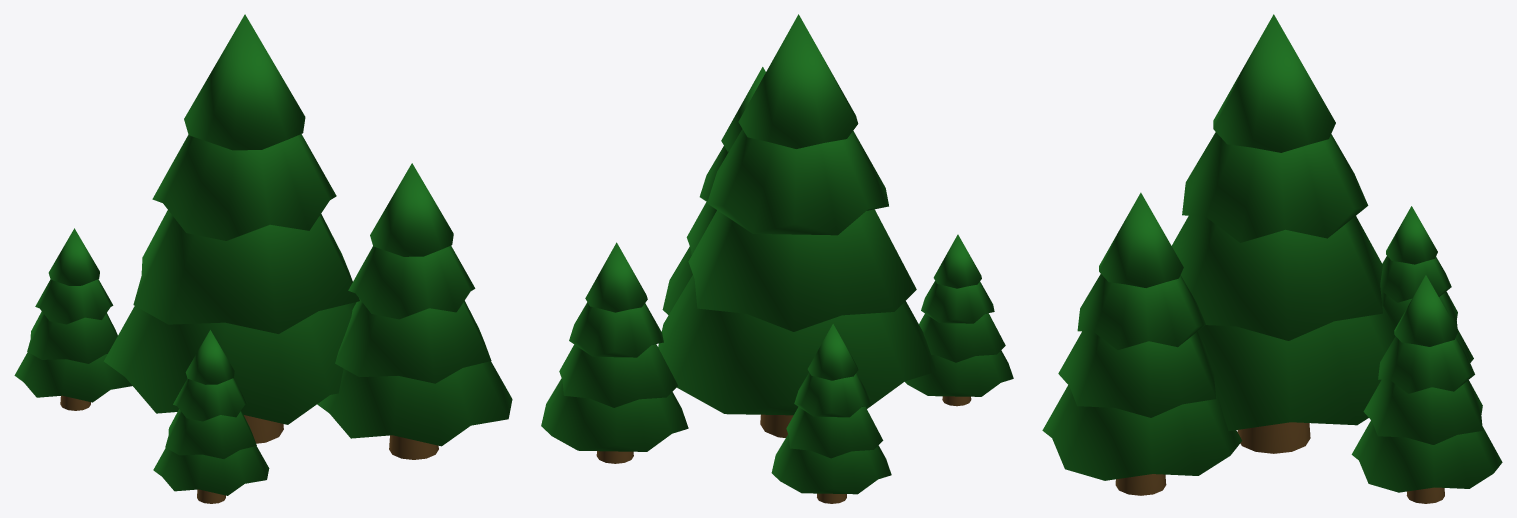
File: tree.fbx
3 views of the same model, side by side, from view 1: azimuth 30°, elevation 25°; view 2: azimuth 150°, elevation 25°; view 3: azimuth 270°, elevation 25° (orthographic). The views are drawn at different scales.
Visible parts, largest first — view 1: Cone.001, Cone, Cone.002, Cone.007, Cone.003, Cone.006, Cone.005, Cone.004, Cone.015, Cone.019, Cone.018, Cone.014 (+6 smaller); view 2: Cone, Cone.001, Cone.002, Cone.003, Cone.011, Cone.010, Cone.019, Cone.009, Cone.018, Cone.015, Cone.014, Cone.017 (+8 smaller); view 3: Cone.001, Cone, Cone.002, Cone.007, Cone.006, Cone.003, Cone.011, Cone.005, Cone.010, Cone.004, Cone.009, Cone.008 (+6 smaller).
Part boxes in pixels (bbox=[...]): Cone.001: bbox=[133, 210, 359, 333]; Cone: bbox=[103, 302, 356, 424]; Cone.002: bbox=[152, 134, 336, 240]; Cone.007: bbox=[317, 361, 512, 446]; Cone.003: bbox=[184, 14, 305, 150]; Cone.006: bbox=[335, 298, 491, 383]; Cone.005: bbox=[348, 245, 475, 319]; Cone.004: bbox=[370, 163, 453, 256]; Cone.015: bbox=[153, 446, 269, 495]; Cone.019: bbox=[14, 352, 132, 402]; Cone.018: bbox=[27, 311, 117, 363]; Cone.014: bbox=[165, 409, 256, 458]; Cone: bbox=[658, 275, 936, 415]; Cone.001: bbox=[688, 209, 916, 331]; Cone.002: bbox=[707, 129, 888, 235]; Cone.003: bbox=[738, 14, 858, 148]; Cone.011: bbox=[541, 378, 688, 451]; Cone.010: bbox=[559, 344, 677, 407]; Cone.019: bbox=[771, 434, 891, 494]; Cone.009: bbox=[569, 302, 663, 357]; Cone.018: bbox=[786, 406, 883, 458]; Cone.015: bbox=[905, 350, 1013, 396]; Cone.014: bbox=[919, 313, 1005, 362]; Cone.017: bbox=[794, 372, 871, 417]; Cone.001: bbox=[1172, 215, 1382, 340]; Cone: bbox=[1197, 304, 1395, 430]; Cone.002: bbox=[1182, 132, 1368, 242]; Cone.007: bbox=[1042, 385, 1241, 480]; Cone.006: bbox=[1058, 331, 1216, 417]; Cone.003: bbox=[1213, 14, 1335, 152]; Cone.011: bbox=[1351, 420, 1502, 492]; Cone.005: bbox=[1077, 274, 1205, 349]; Cone.010: bbox=[1363, 380, 1482, 444]; Cone.004: bbox=[1099, 192, 1183, 287]; Cone.009: bbox=[1378, 336, 1474, 393]; Cone.008: bbox=[1394, 275, 1458, 346].
Bounding box in the file's own units: 98.43 × 116 × 113.
